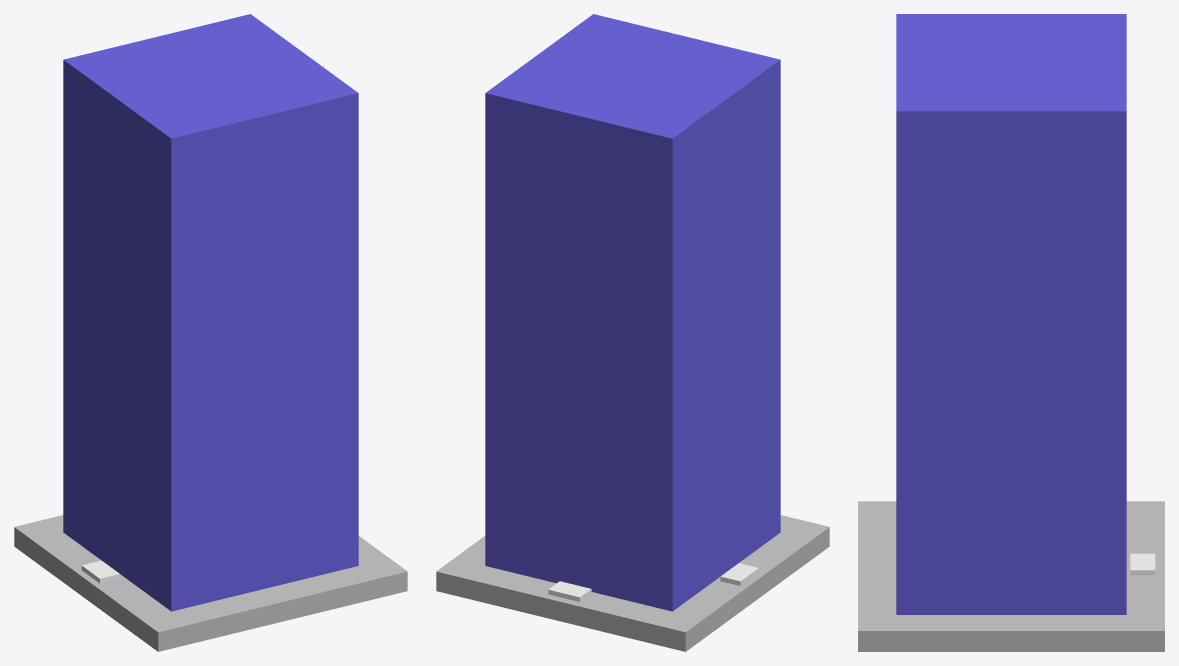
Rendered from building2.fbx.
3 renders of one model, left to right at view 1: azimuth 30°, elevation 25°; view 2: azimuth 150°, elevation 25°; view 3: azimuth 270°, elevation 25°, orthographic. The views are drawn at different scales.
Visible parts, largest first — view 1: Empty_Tile.007, Empty_Tile.008, Empty_Tile.006; view 2: Empty_Tile.007, Empty_Tile.008, Empty_Tile.005, Empty_Tile.006; view 3: Empty_Tile.007, Empty_Tile.008, Empty_Tile.005.
Part boxes in pixels (x1,y1,x2,y2): Empty_Tile.007: (63, 14, 358, 611); Empty_Tile.008: (14, 515, 407, 651); Empty_Tile.006: (81, 560, 119, 583); Empty_Tile.007: (485, 14, 780, 611); Empty_Tile.008: (436, 515, 829, 651); Empty_Tile.005: (548, 581, 591, 601); Empty_Tile.006: (720, 563, 758, 585); Empty_Tile.007: (896, 14, 1126, 614); Empty_Tile.008: (858, 501, 1164, 651); Empty_Tile.005: (1130, 553, 1155, 575).
Bounding box in the file's own units: 800 × 1509 × 800.
